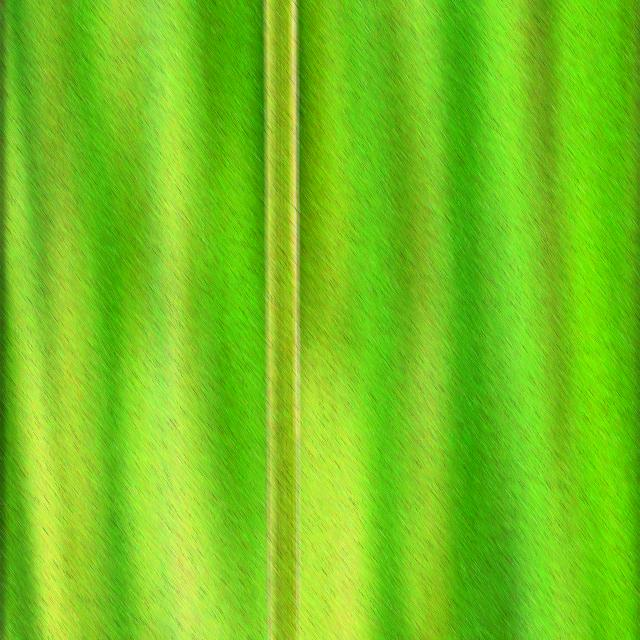BLS: (290, 0, 297, 440)
